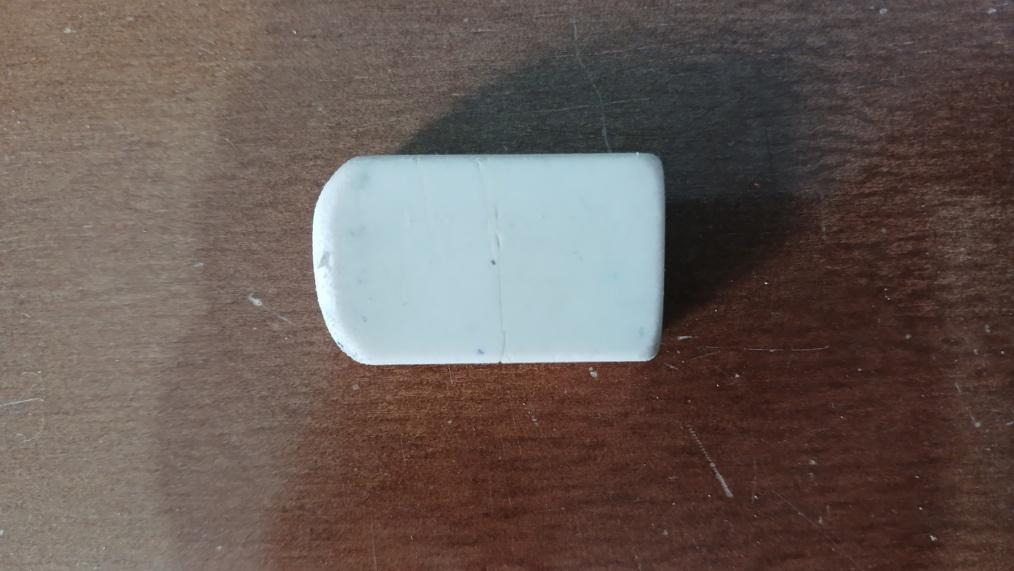Eraser: (311, 156, 665, 363)
